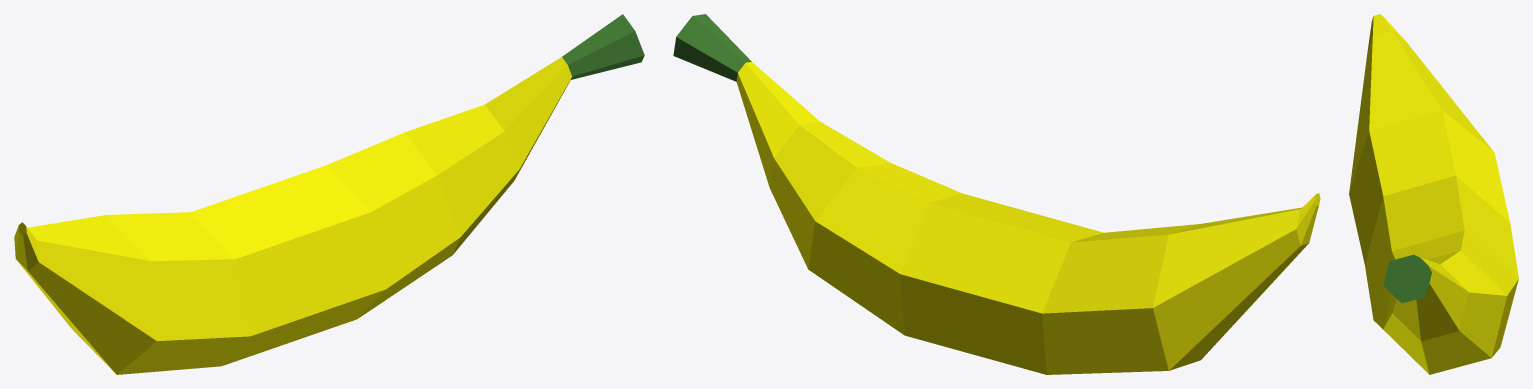
File: banana.gltf
3 views of the same model, side by side, from view 1: azimuth 30°, elevation 25°; view 2: azimuth 150°, elevation 25°; view 3: azimuth 270°, elevation 25° (orthographic). The views are drawn at different scales.
Visible parts, largest first — view 1: Cylinder; view 2: Cylinder; view 3: Cylinder.
Part boxes in pixels (bbox=[...]): Cylinder: bbox=[14, 14, 644, 374]; Cylinder: bbox=[673, 14, 1320, 374]; Cylinder: bbox=[1349, 14, 1518, 374].
Size of the model in its own units: 0.1782 by 0.0692 by 0.0444.
